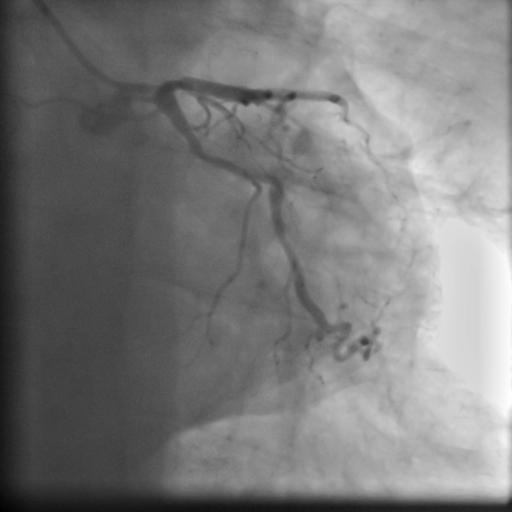Stenosis: (253, 168, 283, 193)
